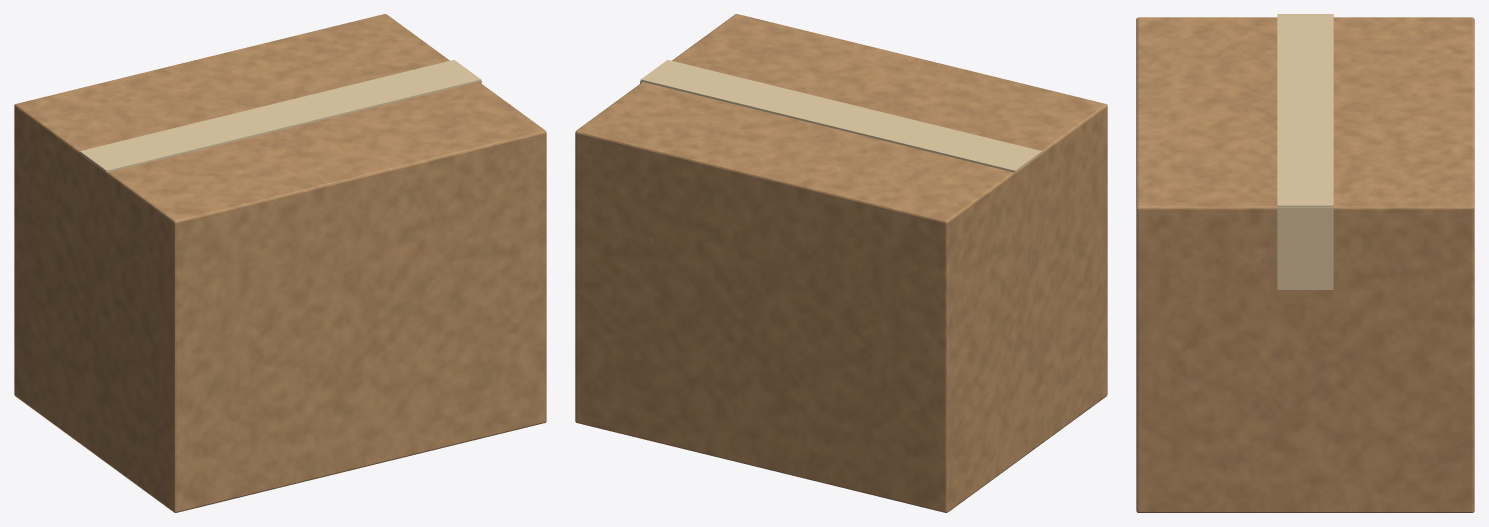
Rendered from shipping_box.glb.
3 renders of one model, left to right at view 1: azimuth 30°, elevation 25°; view 2: azimuth 150°, elevation 25°; view 3: azimuth 270°, elevation 25°, orthographic. The views are drawn at different scales.
Visible parts, largest first — view 1: shipping_box; view 2: shipping_box; view 3: shipping_box.
Boxes of the visible parts, x1,y1,x2,y2 form: shipping_box: (14, 14, 546, 512); shipping_box: (575, 14, 1107, 512); shipping_box: (1136, 14, 1474, 512).
Size of what is drawn, in the model's own units: 0.403 by 0.302 by 0.3.
2 materials, 1 textured.
